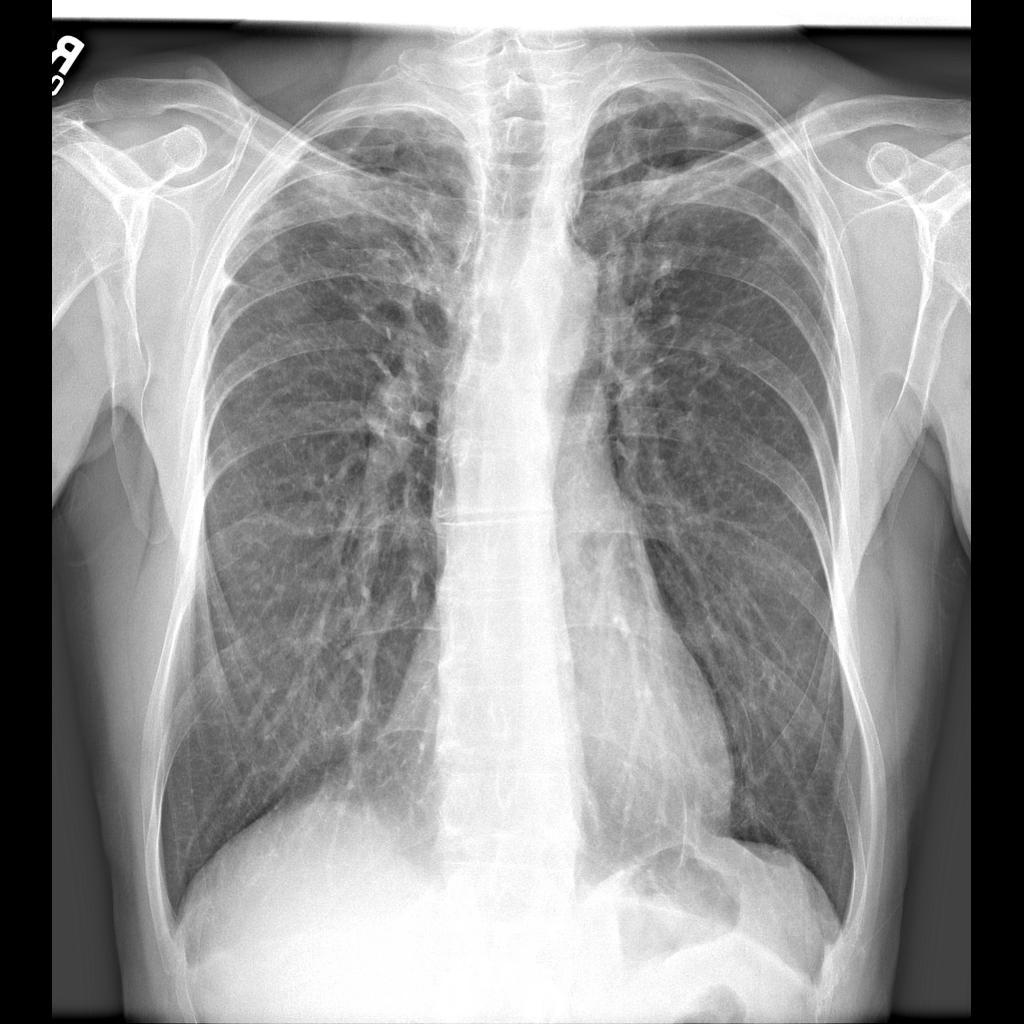Nodule: (637, 159, 684, 206)
